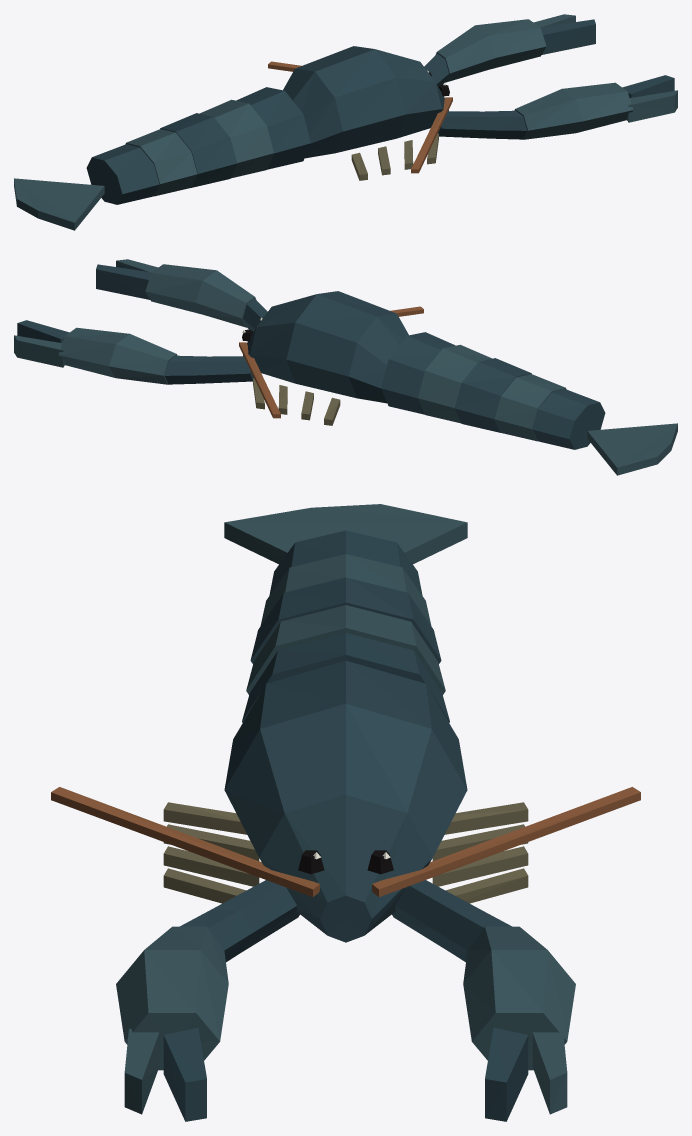
Rendered from raw-lobster.obj.
3 views of the same model, one above another, from view 1: azimuth 30°, elevation 25°; view 2: azimuth 150°, elevation 25°; view 3: azimuth 270°, elevation 25° (orthographic). The views are drawn at different scales.
Visible parts, largest first — view 1: main; view 2: main; view 3: main.
Boxes of the visible parts, x1,y1,x2,y2 form: main: (14,14,677,230); main: (14,259,677,475); main: (51,504,640,1121).
Size of the model in its own units: 162 by 22 by 68.
